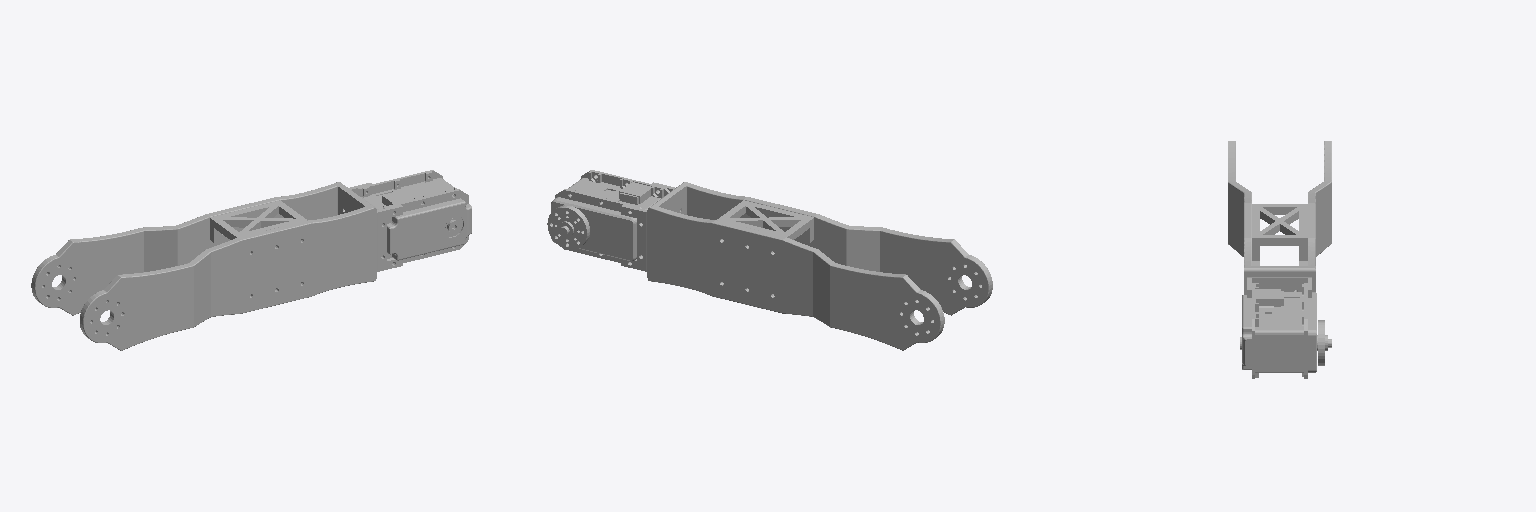
File: LEGupper.obj
3 views of the same model, side by side, from view 1: azimuth 30°, elevation 25°; view 2: azimuth 150°, elevation 25°; view 3: azimuth 270°, elevation 25° (orthographic).
Bounding box in the file's own units: 28.15 × 5 × 6.43.